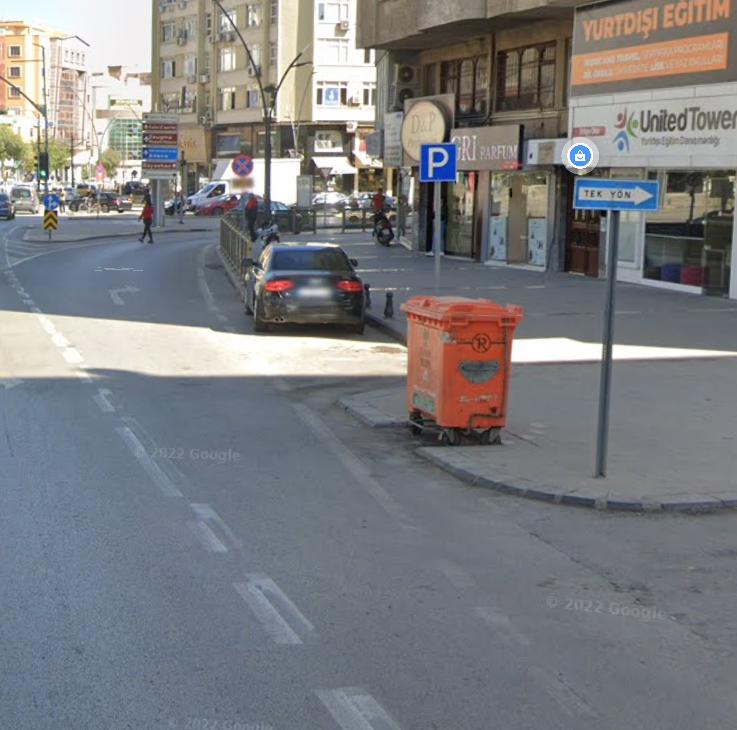greenlight: (38, 151, 49, 180)
park: (421, 143, 457, 180)
